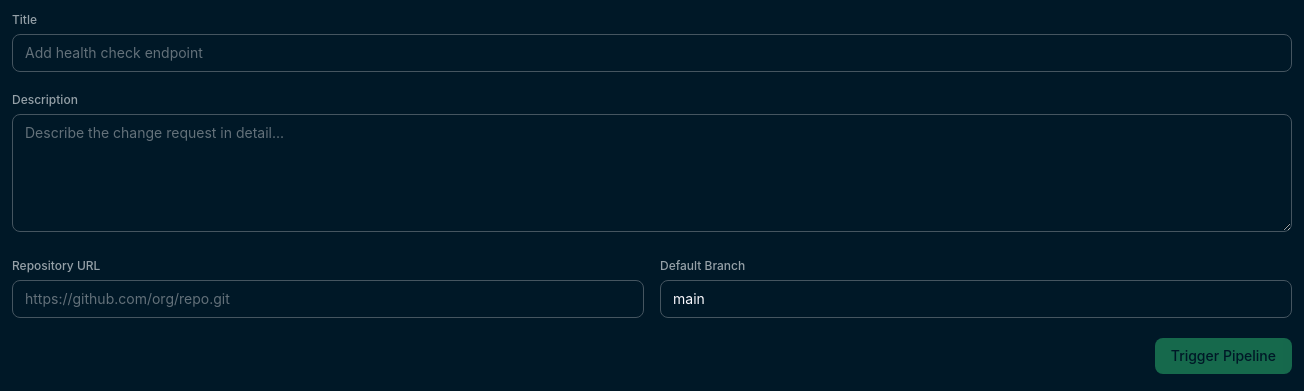
Test case: CRForm › enables submit when title and description filled
Type "My CR" into the field with placeholder "Add health check endpoint".
click(652, 53); type("My CR")  # box top-left (12, 34), bottom-right (1292, 72)
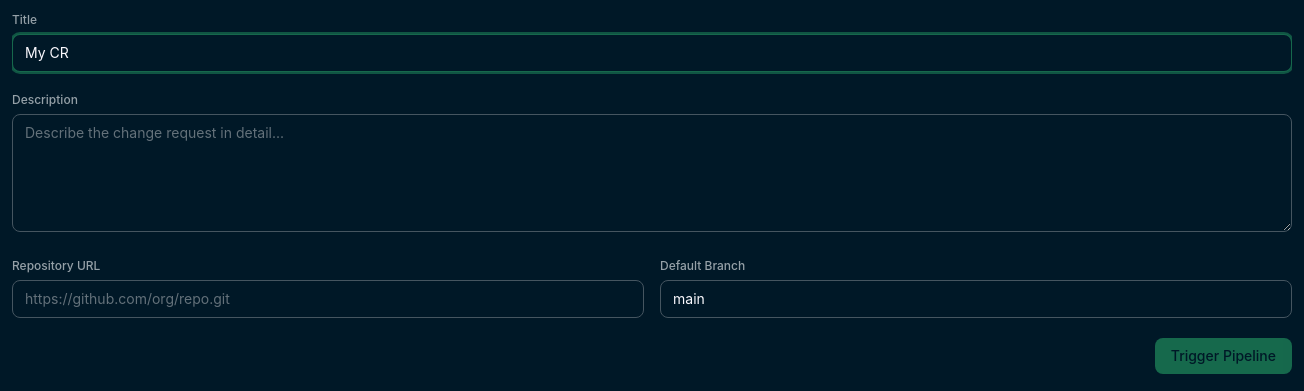
Type "Details" into the text box with placeholder "Describe the change request in detail...".
click(652, 173); type("Details")  # box top-left (12, 114), bottom-right (1292, 232)
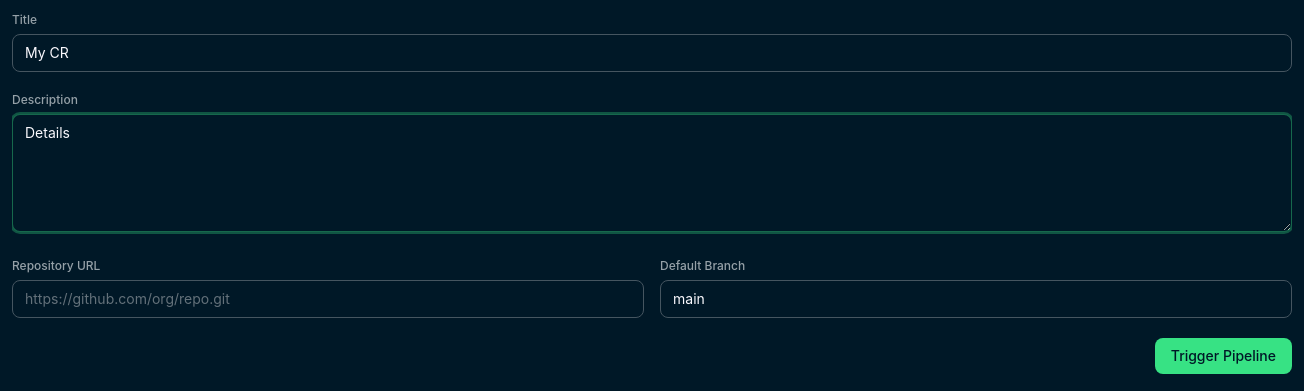
Check: the button "Trigger Pipeline" is enabled, box top-left (1155, 338), bottom-right (1292, 374)
